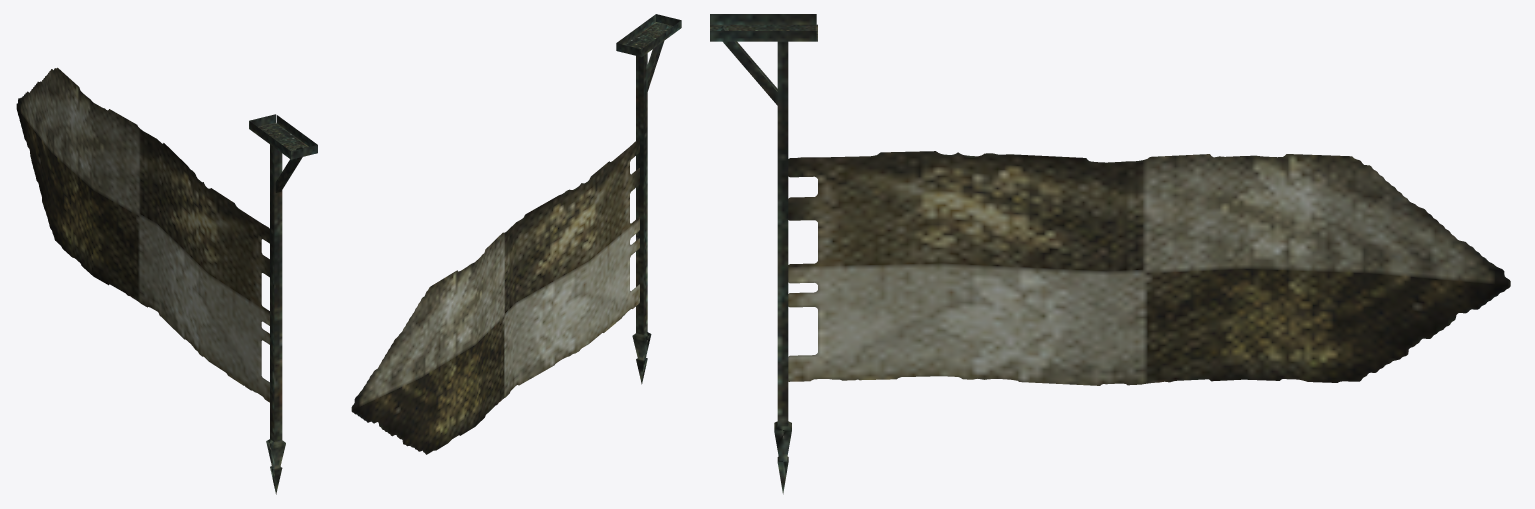
File: tdr_d_flag.obj
3 renders of one model, left to right at view 1: azimuth 30°, elevation 25°; view 2: azimuth 150°, elevation 25°; view 3: azimuth 270°, elevation 25°, orthographic. The views are drawn at different scales.
Parts seen in each view (by area): view 1: Body.flag05.smd.mesh_0; view 2: Body.flag05.smd.mesh_0; view 3: Body.flag05.smd.mesh_0.
Boxes of the visible parts, box(x1,y1,x2,y2) form: Body.flag05.smd.mesh_0: box(16, 67, 317, 494); Body.flag05.smd.mesh_0: box(351, 14, 681, 454); Body.flag05.smd.mesh_0: box(710, 14, 1510, 494).
Bounding box in the file's own units: 17.99 × 165 × 257.
Materials: 1 (1 with a texture image).
